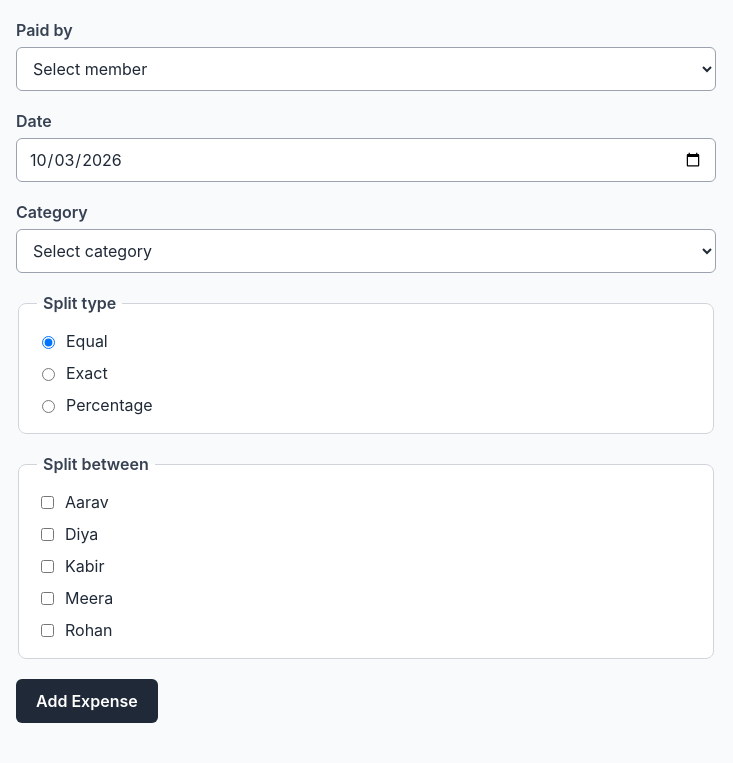
Test: AddExpensePage › shows validation errors when required fields are missing
(page scrolled)
Click the button "Add Expense" at coordinates (87, 701), box [16,679,158,723]
(page scrolled)
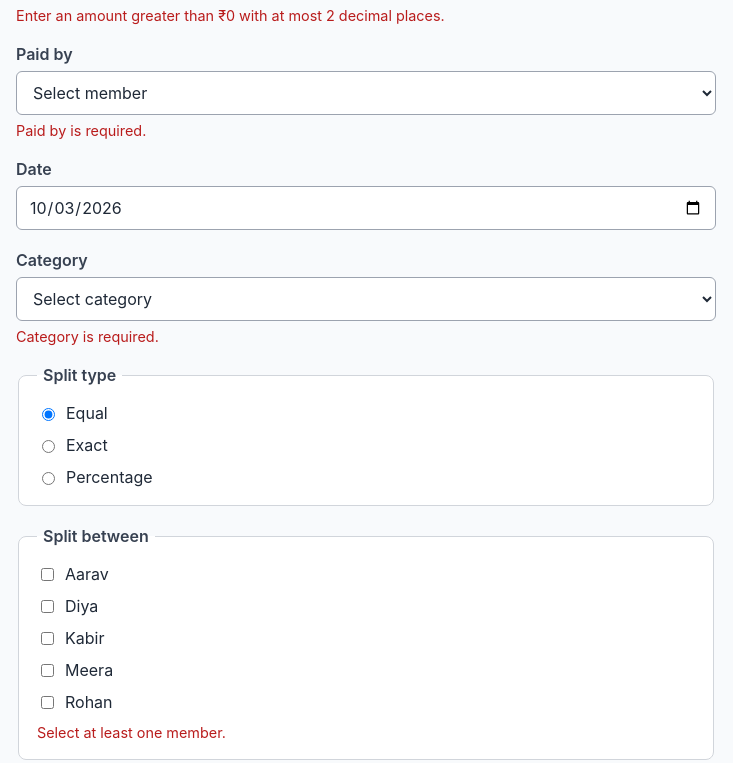
Now the text "Enter an amount greater than ₹0 with at most 2 decimal places." is shown, box [16,7,445,24]
Now the text "Paid by is required." is shown, box [16,122,146,139]
Now the text "Category is required." is shown, box [16,328,159,345]
